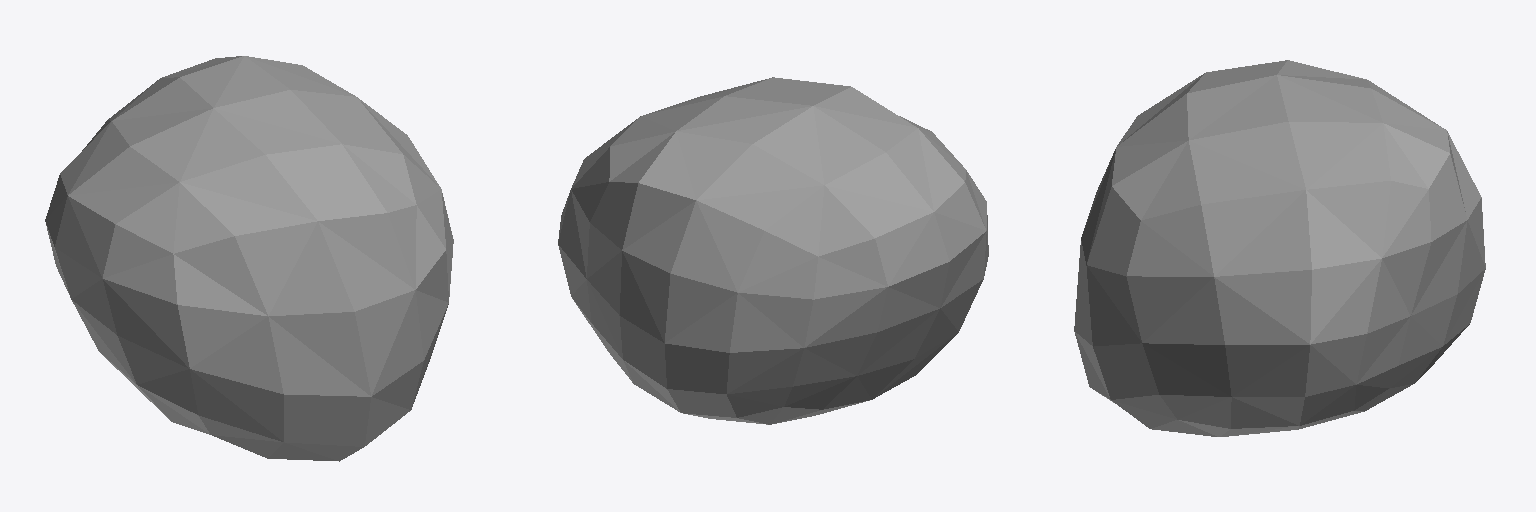
The model's file is Rocks_002_low.obj.
3 views of the same model, side by side, from view 1: azimuth 30°, elevation 25°; view 2: azimuth 150°, elevation 25°; view 3: azimuth 270°, elevation 25° (orthographic).
Parts seen in each view (by area): view 1: Cube.001; view 2: Cube.001; view 3: Cube.001.
Boxes of the visible parts, x1,y1,x2,y2 form: Cube.001: [45, 56, 453, 461]; Cube.001: [558, 77, 988, 424]; Cube.001: [1074, 60, 1485, 436].
Bounding box in the file's own units: 0.8784 × 0.6997 × 0.8175.